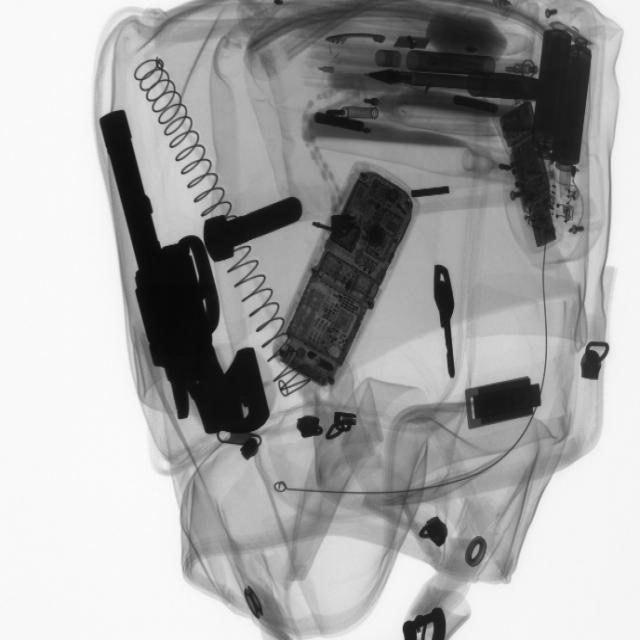GUN: (95, 92, 267, 447)
